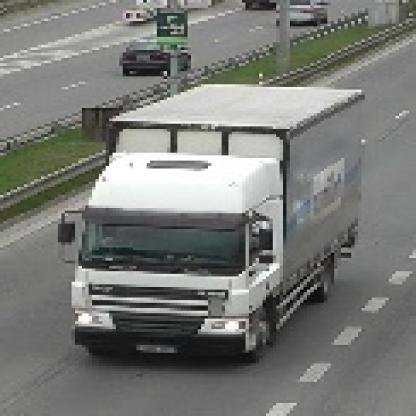truck: (52, 83, 363, 357)
